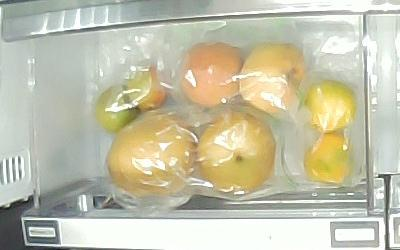peach_vinyl: (239, 42, 306, 116), (181, 42, 245, 108)
pear_vinyl: (107, 111, 196, 200), (195, 112, 275, 194)
tangerine_vinyl: (307, 81, 356, 134), (303, 133, 351, 184)
tomato_vinyl: (95, 87, 138, 134), (125, 65, 168, 112)
